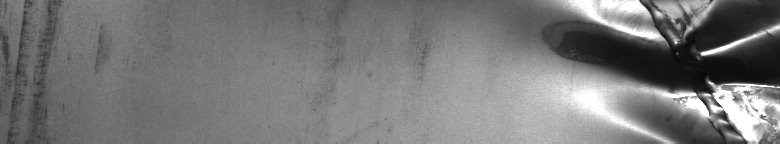ke: (551, 4, 776, 136)
